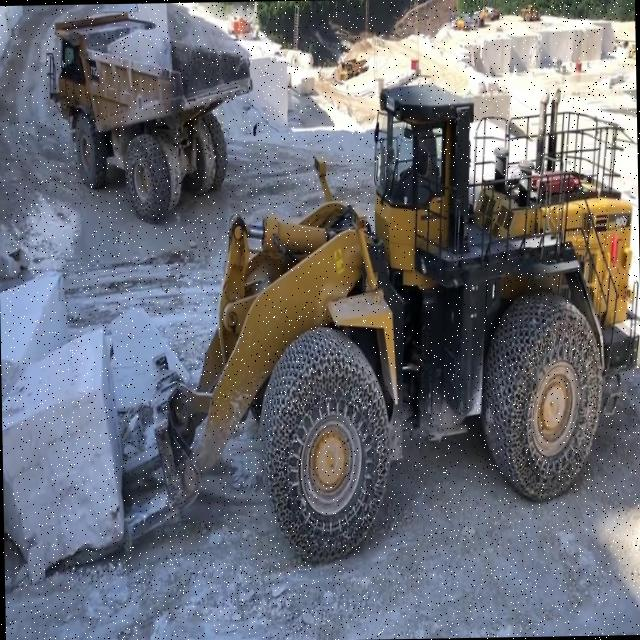Dump Truck: (41, 6, 258, 228)
Loader: (48, 70, 640, 573)
